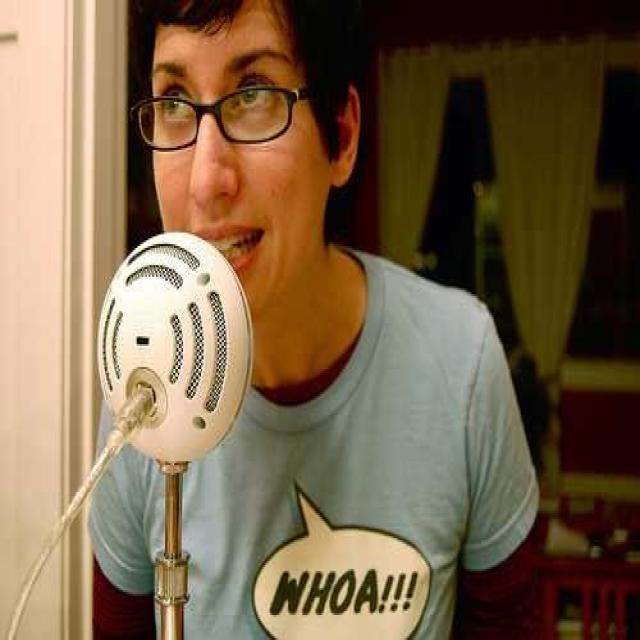microphone: (98, 232, 254, 466)
